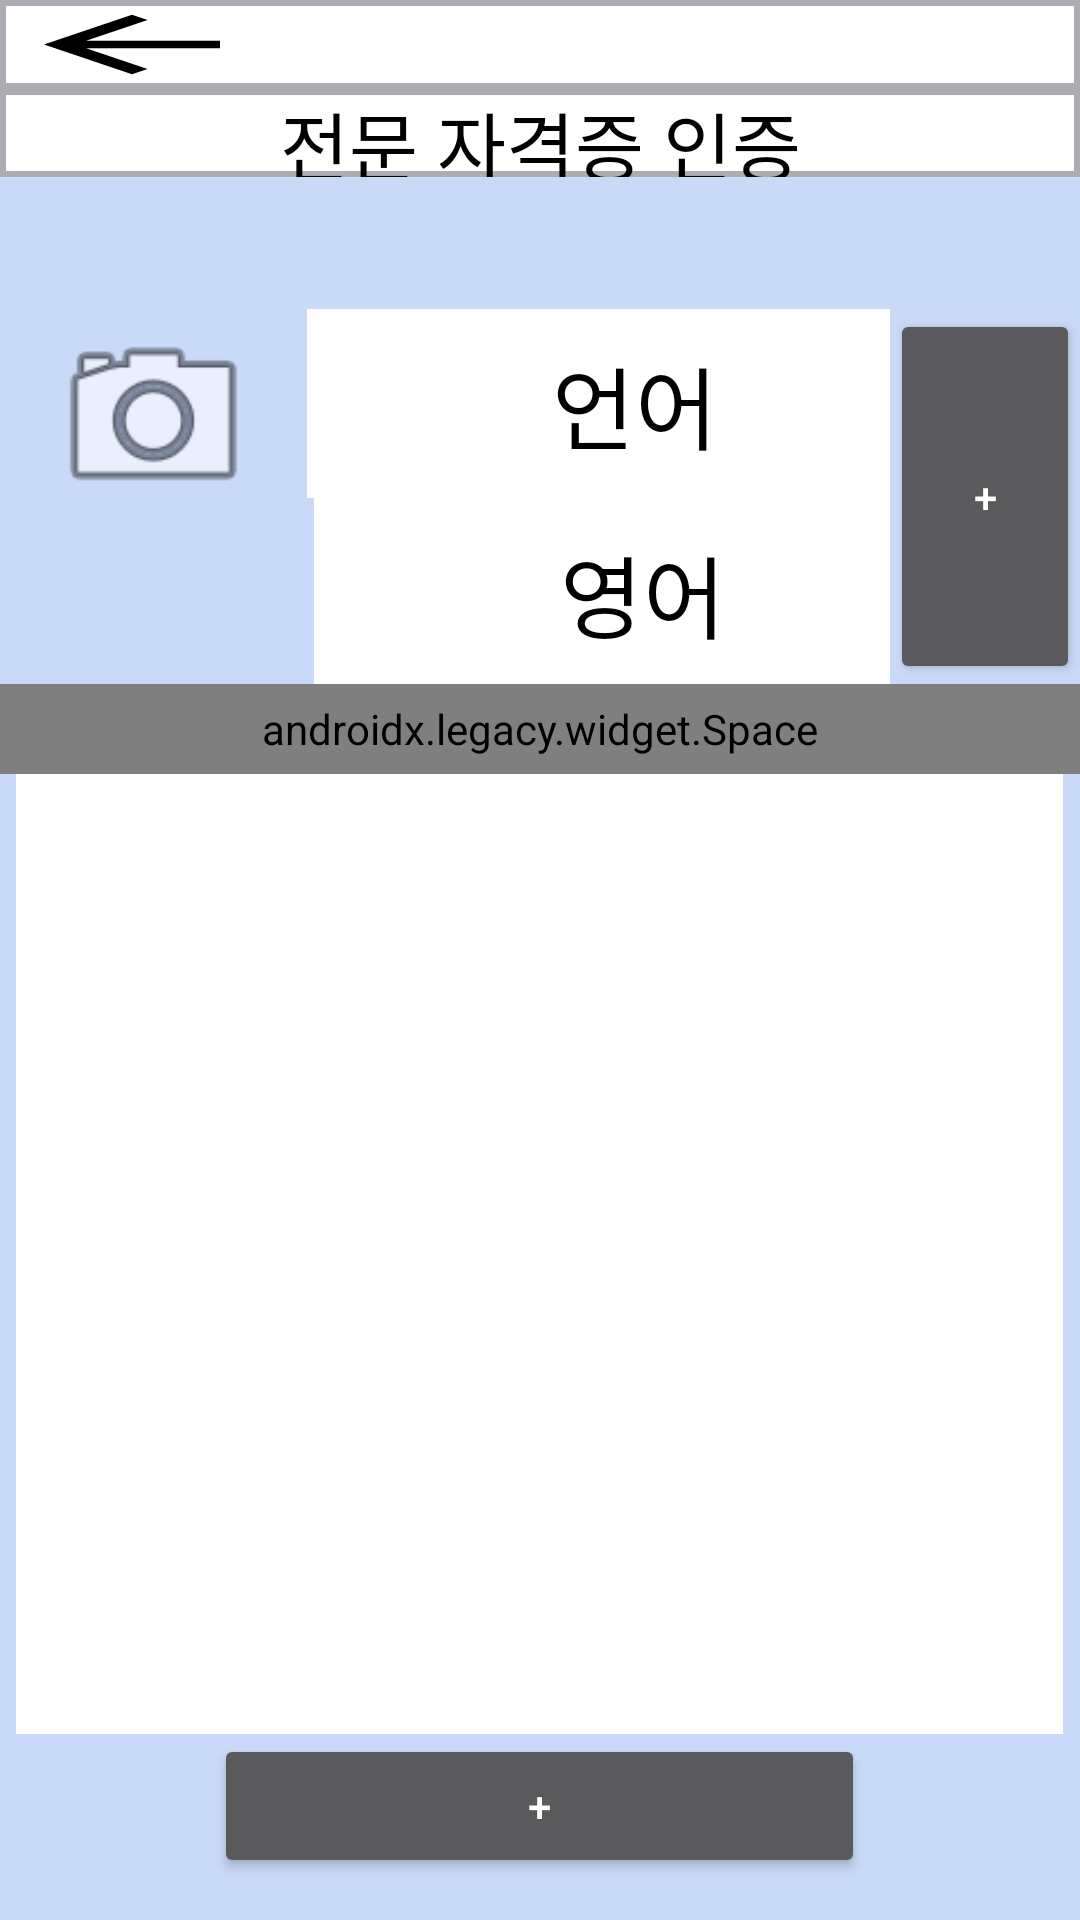

Locate icon controls on the screen. Image size 1080×1920, boxes as (x1, y1, x2, y2).
arrow back: (6, 6, 264, 83)
